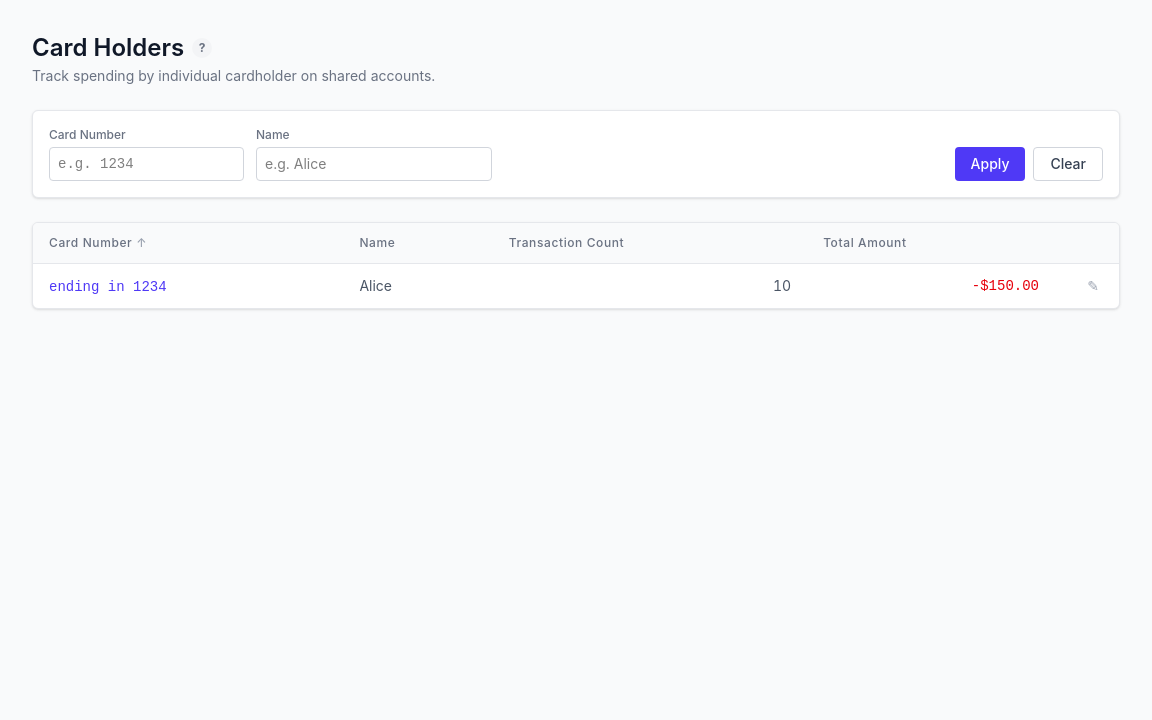
CardHoldersPage › opens edit modal when pencil button is clicked
The image size is (1152, 720).
Check: the button "ending in 1234" is shown, box [49, 276, 167, 296]
Click the button titled "Edit card holder": (1093, 286) [1083, 272, 1103, 300]
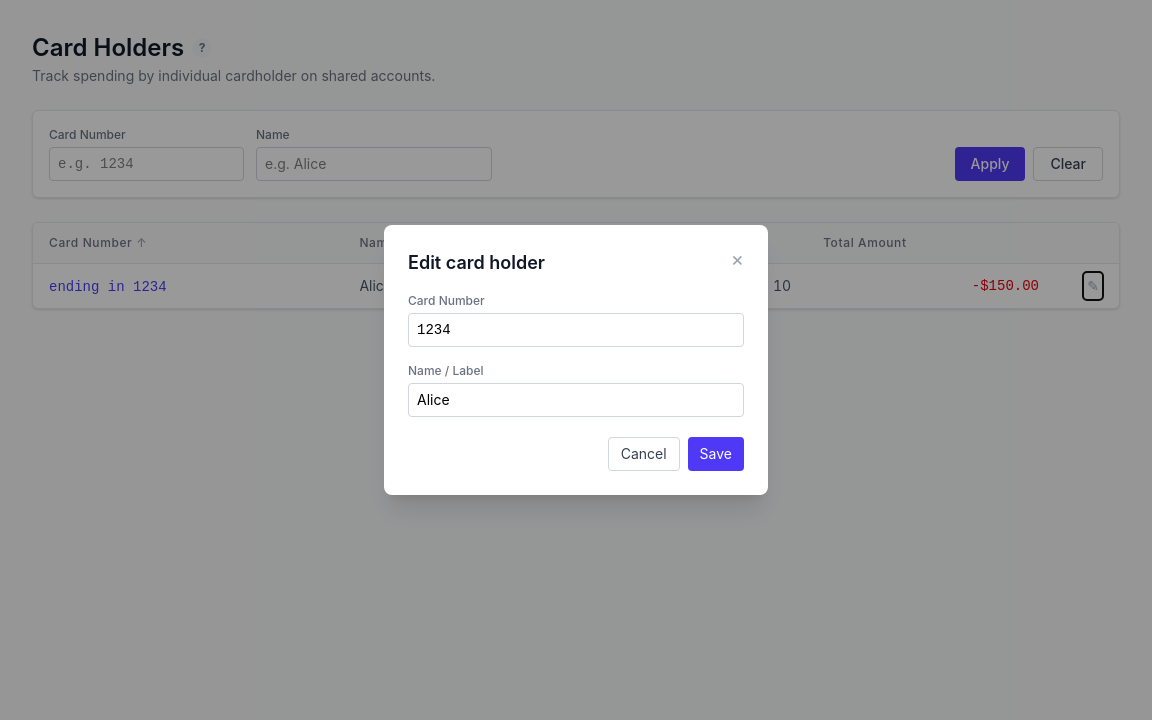
Check: the heading "Edit card holder" is shown, box [408, 249, 545, 277]
Check: the 1st field showing "1234" is shown, box [408, 313, 744, 347]
Check: the field showing "Alice" below "Name / Label" is shown, box [408, 383, 744, 417]
